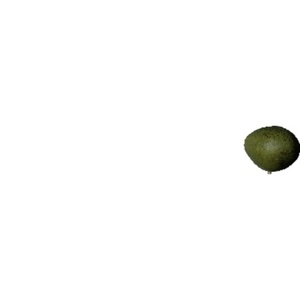abacate: (241, 122, 299, 170)
